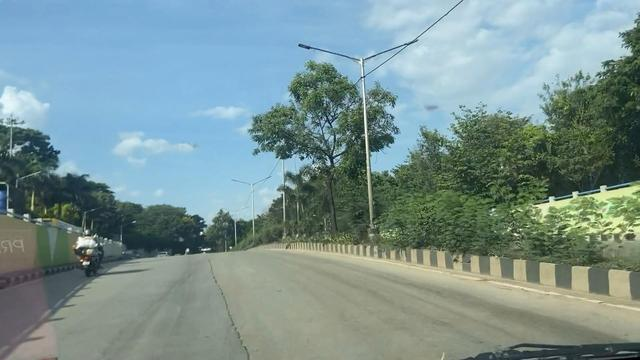LMV: (76, 231, 101, 273)
RoadDamages: (204, 256, 251, 360)
